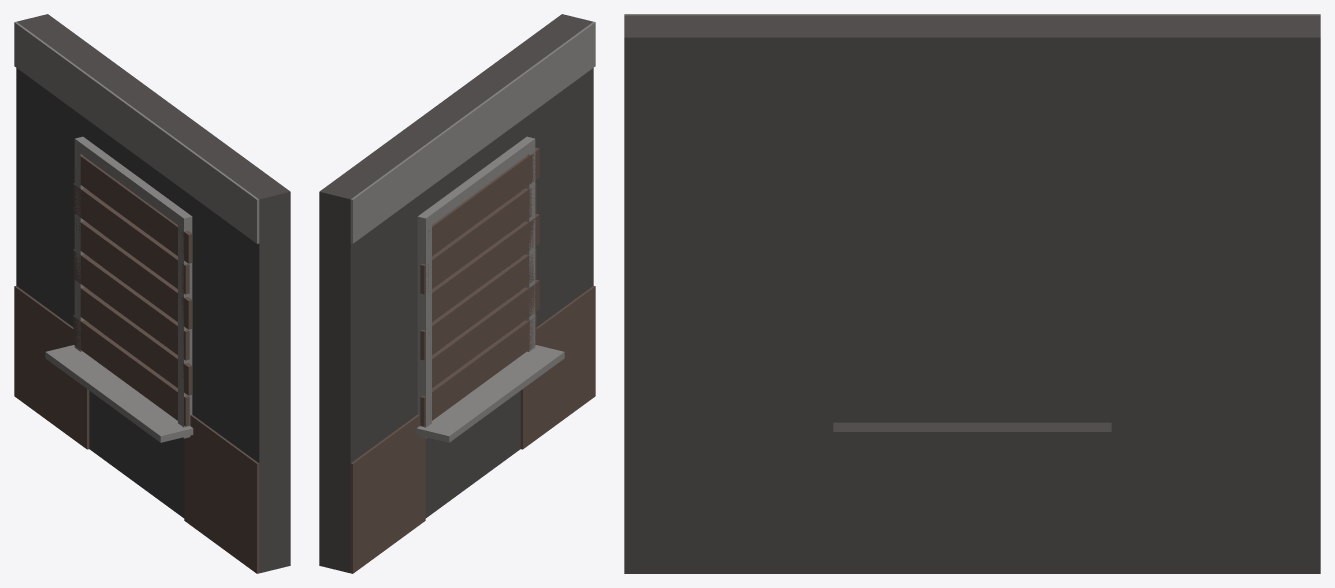
The model's file is B_k_win_boarded.glb.
3 views of the same model, side by side, from view 1: azimuth 30°, elevation 25°; view 2: azimuth 150°, elevation 25°; view 3: azimuth 270°, elevation 25° (orthographic). The views are drawn at different scales.
Parts seen in each view (by area): view 1: Cube.002, Cube, Cube.006, Cube.003, Cube.001, Cube.004, Cube.005, Cube.010, Cube.015, Cube.013, Cube.011, Cube.014 (+5 smaller); view 2: Cube, Cube.002, Cube.006, Cube.001, Cube.003, Cube.004, Cube.005, Cube.010, Cube.011, Cube.013, Cube.015, Cube.012 (+5 smaller); view 3: Cube, Cube.002, MCDCX_h.004, Cube.004, Cube.005, Cube.006.
Part boxes in pixels (x1=…): Cube.002: x1=186, y1=138, x2=290, y2=573; Cube: x1=16, y1=14, x2=120, y2=332; Cube.006: x1=14, y1=21, x2=259, y2=243; Cube.003: x1=184, y1=414, x2=259, y2=573; Cube.001: x1=14, y1=285, x2=89, y2=449; Cube.004: x1=89, y1=391, x2=184, y2=518; Cube.005: x1=89, y1=67, x2=217, y2=212; Cube.010: x1=45, y1=345, x2=193, y2=442; Cube.015: x1=73, y1=183, x2=189, y2=294; Cube.013: x1=73, y1=249, x2=189, y2=360; Cube.011: x1=73, y1=315, x2=189, y2=426; Cube.014: x1=76, y1=219, x2=192, y2=329; Cube: x1=319, y1=138, x2=423, y2=573; Cube.002: x1=489, y1=14, x2=593, y2=332; Cube.006: x1=350, y1=21, x2=595, y2=243; Cube.001: x1=350, y1=414, x2=425, y2=573; Cube.003: x1=520, y1=285, x2=595, y2=449; Cube.004: x1=425, y1=391, x2=520, y2=518; Cube.005: x1=392, y1=67, x2=521, y2=211; Cube.010: x1=416, y1=345, x2=564, y2=442; Cube.011: x1=420, y1=315, x2=536, y2=426; Cube.013: x1=420, y1=249, x2=536, y2=360; Cube.015: x1=420, y1=183, x2=536, y2=294; Cube.012: x1=432, y1=279, x2=539, y2=387; Cube: x1=1111, y1=15, x2=1320, y2=573; Cube.002: x1=624, y1=15, x2=833, y2=573; MCDCX_h.004: x1=833, y1=148, x2=1111, y2=422; Cube.004: x1=831, y1=422, x2=1113, y2=573; Cube.005: x1=831, y1=15, x2=1113, y2=147; Cube.006: x1=624, y1=14, x2=1320, y2=15.
Size of the model in its own units: 0.63 by 3.4 by 4.
